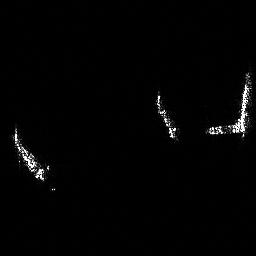ship: (201, 70, 256, 139), (6, 121, 54, 186), (150, 87, 182, 145)
